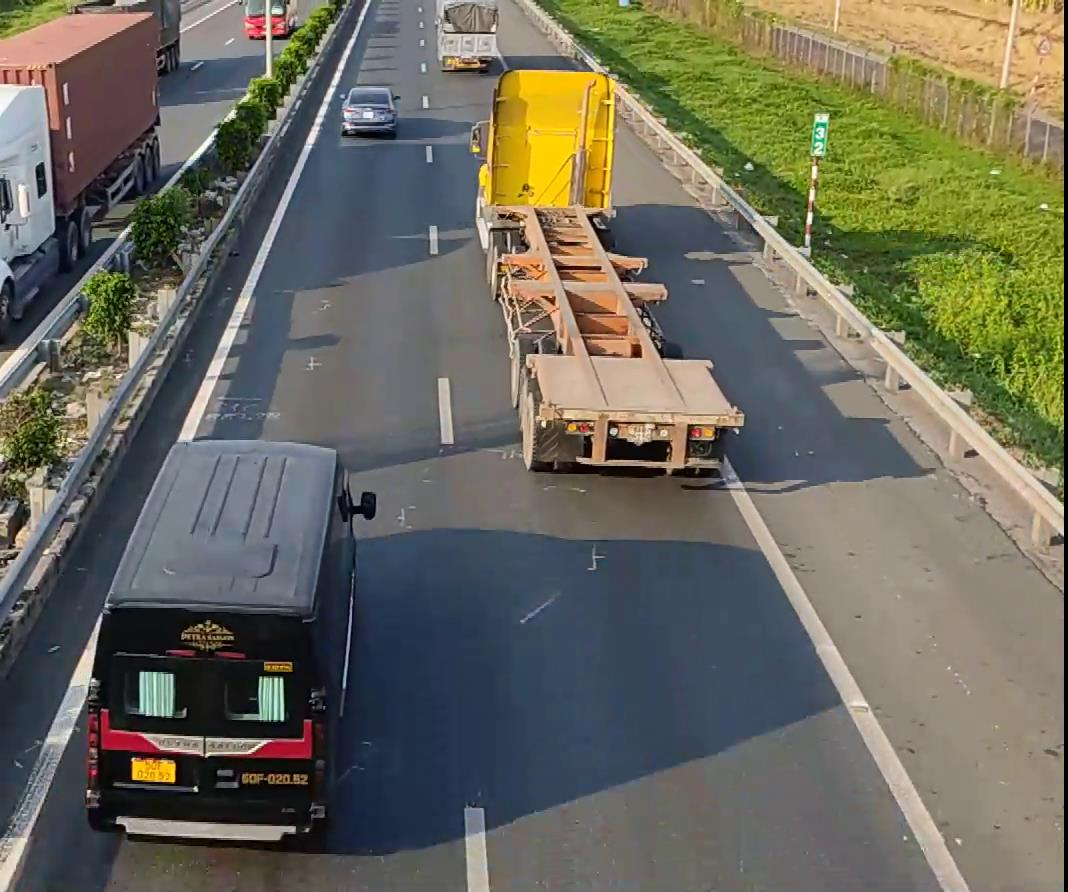car: (80, 437, 368, 853), (338, 80, 403, 141)
container: (477, 63, 738, 478), (1, 11, 169, 331)
truck: (433, 0, 500, 71)
